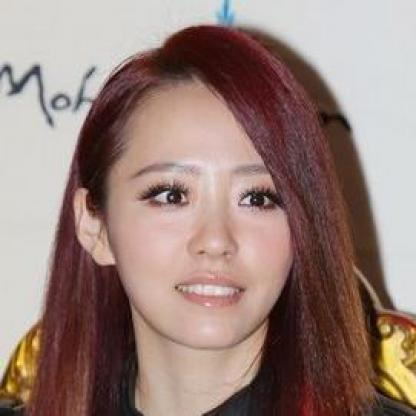long-hair: (29, 350, 382, 402)
